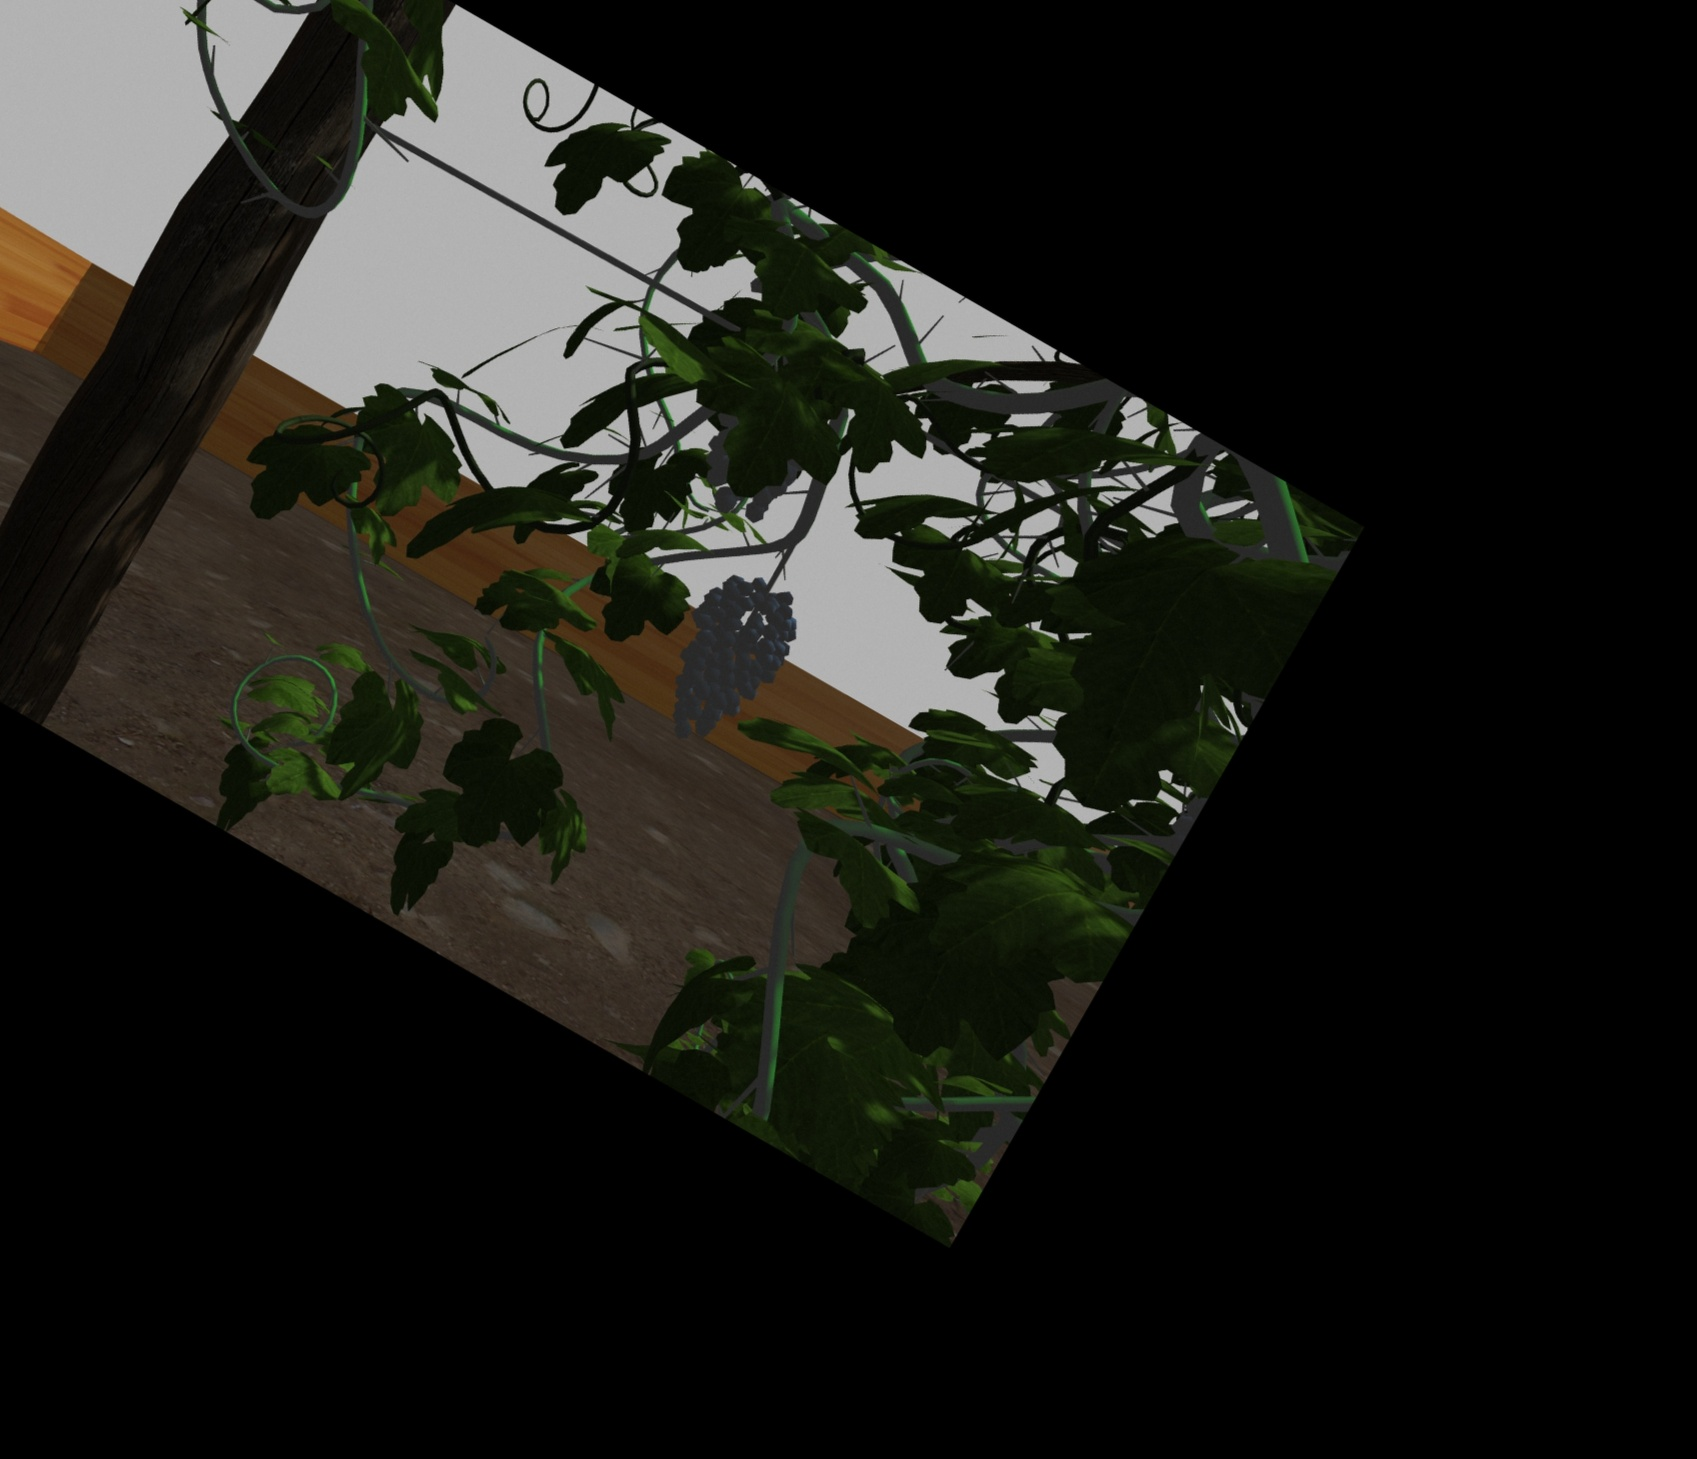grape: (680, 580, 773, 739)
